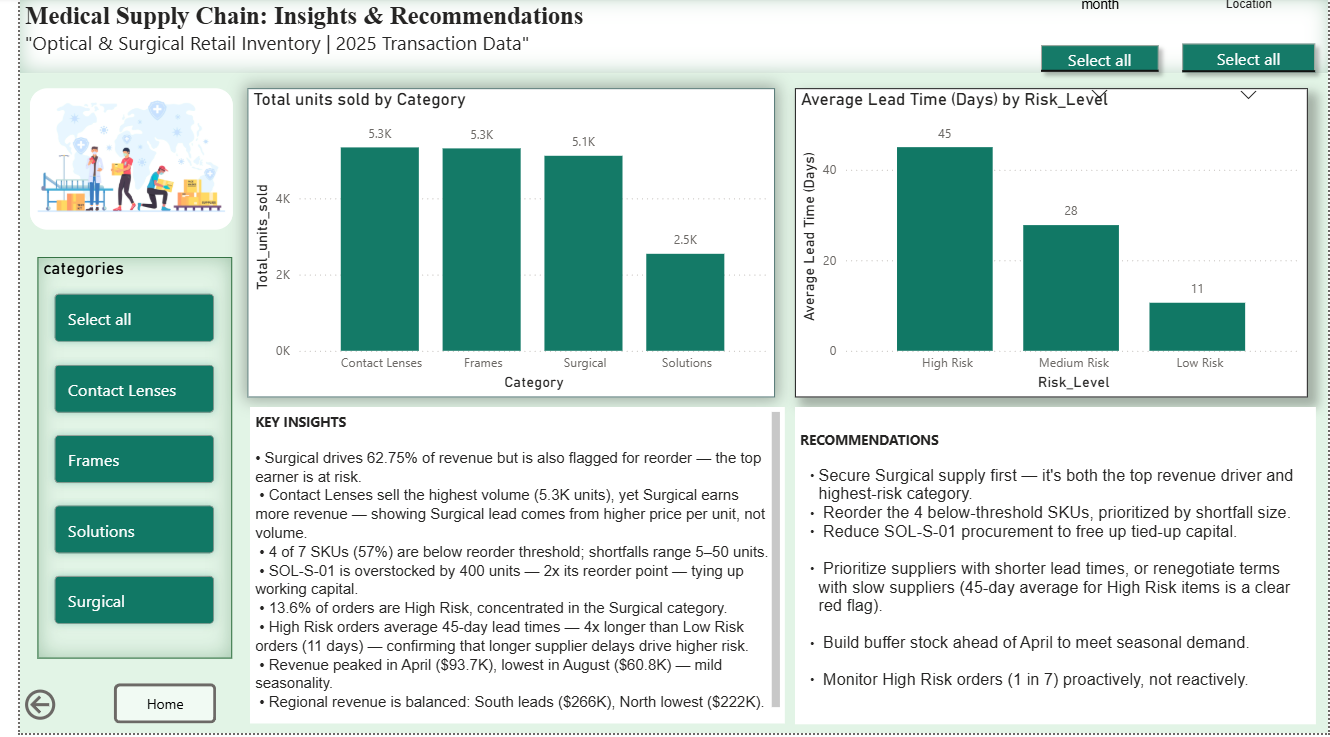

What the dashboard file says about the page in this screenshot:
{"tool":"powerbi","page":{"name":"insight &recommendation","canvas":[1280,720],"ordinal":2},"visuals":[{"type":"textbox","box":[0,0,1280.5,74],"z":0},{"type":"columnChart","title":" Total units sold by Category","fields":{"Category":["Product_Master_List.Category"],"Y":["calculated methods.Total_units_sold"]},"box":[182,106.2,492.7,284.8],"z":1000},{"type":"advancedSlicerVisual","title":"categories","fields":{"Values":["Product_Master_List.Category"]},"box":[0,90.6,182.1,379.8],"z":2000},{"type":"columnChart","fields":{"Category":["Inventory_Transactions.Risk_Level"],"Y":["calculated methods.Average Lead Time (Days)"]},"box":[692.8,106.2,567.3,284.8],"z":3000},{"type":"advancedSlicerVisual","title":"month","fields":{"Values":["Inventory_Transactions.Date.Variation.Date Hierarchy.Month"]},"box":[986.2,0,139.8,105.9],"z":4000},{"type":"advancedSlicerVisual","fields":{"Values":["Inventory_Transactions.Location"]},"box":[1125.6,0,154.4,105.9],"z":5000},{"type":"textbox","title":"Insights","box":[201.8,410.9,513.6,309.4],"z":6000},{"type":"textbox","title":"Insights","box":[738.3,411.4,521.9,299.8],"z":7000},{"type":"actionButton","box":[0,672.9,57.5,39.4],"z":8000},{"type":"actionButton","box":[91.3,671.8,100.3,39.4],"z":9000}]}

Visuals, with their boxes in screenshot pixels (x1, y1, x2, y2), scaled from the page's 1280x720 canvas onto the 1330x737 screenshot:
textbox: locate(0, 0, 1329, 76)
" Total units sold by Category" columnChart: locate(189, 109, 701, 400)
"categories" advancedSlicerVisual: locate(0, 93, 189, 482)
columnChart - Inventory_Transactions.Risk_Level x calculated methods.Average Lead Time (Days): locate(720, 109, 1309, 400)
"month" advancedSlicerVisual: locate(1025, 0, 1170, 108)
advancedSlicerVisual - Inventory_Transactions.Location: locate(1170, 0, 1329, 108)
"Insights" textbox: locate(210, 421, 743, 736)
"Insights" textbox: locate(767, 421, 1309, 728)
actionButton: locate(0, 689, 60, 729)
actionButton: locate(95, 688, 199, 728)
